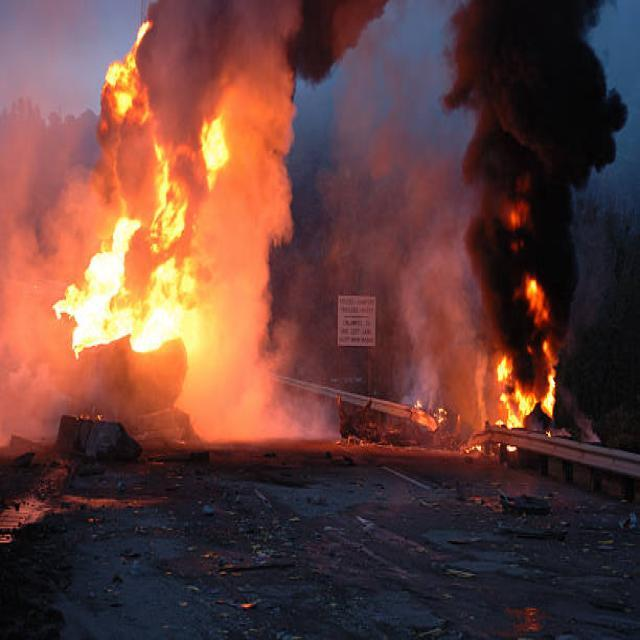Fire: (57, 16, 249, 353), (482, 200, 572, 425)
Smoke: (459, 3, 631, 286), (2, 96, 95, 402), (383, 149, 486, 403), (156, 0, 391, 84)
